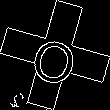O_N: (27, 25, 83, 85)
